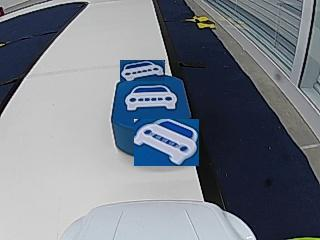safety: (124, 84, 179, 111)
